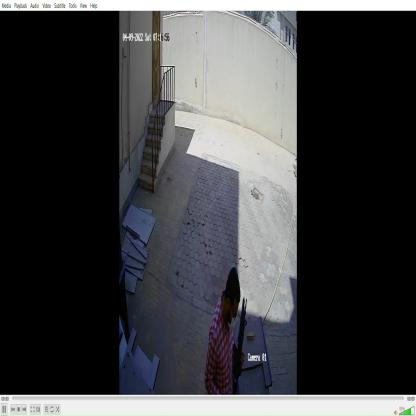handgun: (229, 289, 253, 394)
